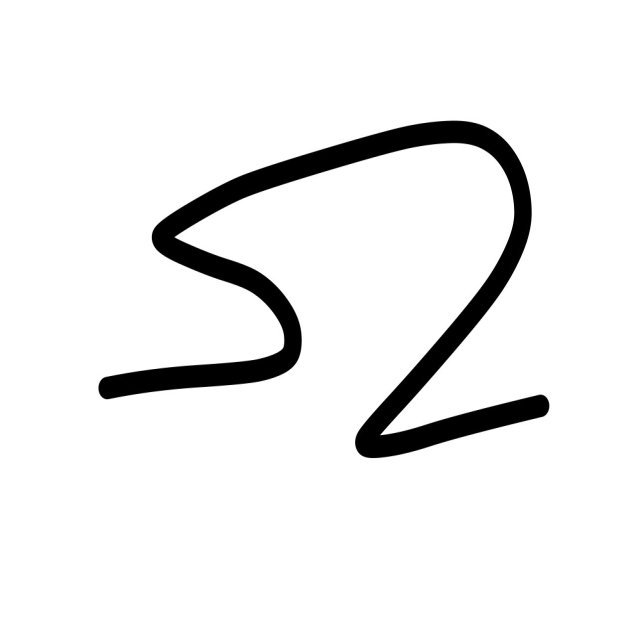ohms: (66, 54, 602, 549)
